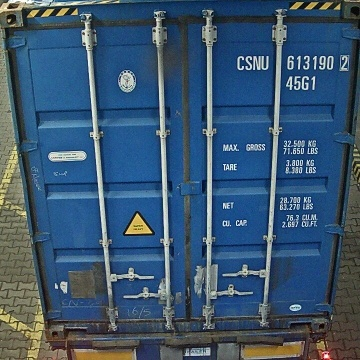serial_id: (237, 55, 349, 70)
